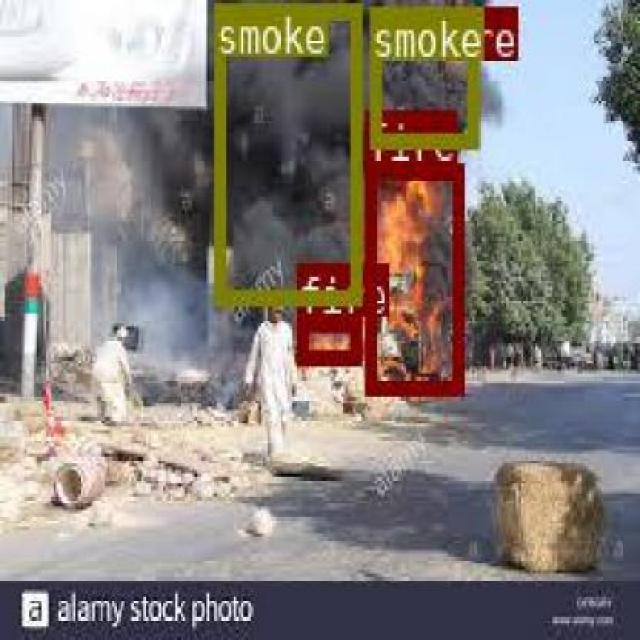CIV_Plane: (364, 162, 461, 392), (295, 314, 360, 360), (423, 6, 474, 46)
Fire: (364, 162, 461, 392), (295, 314, 360, 360), (423, 6, 474, 46)
Smoke: (248, 0, 323, 238), (370, 38, 475, 114)
